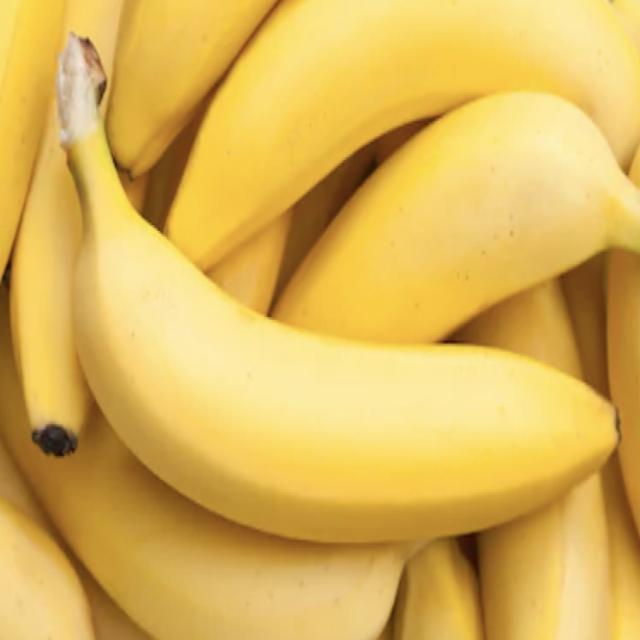Banana: (0, 7, 637, 640)
